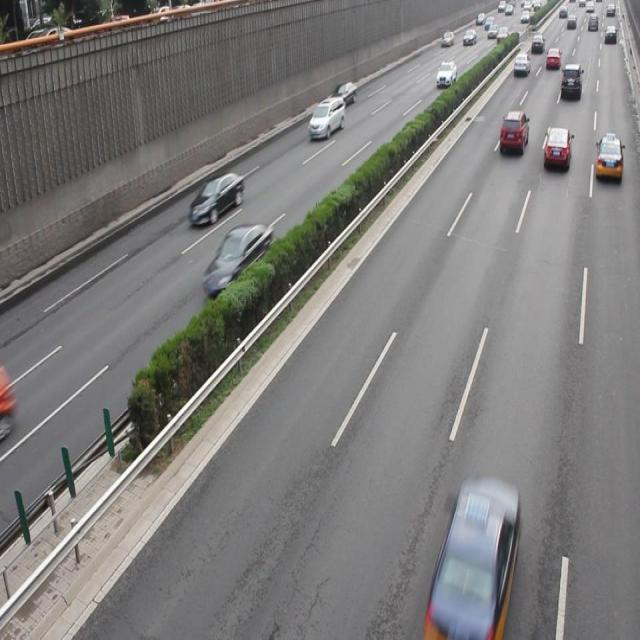car: (430, 478, 520, 631), (202, 220, 272, 294), (188, 170, 244, 227), (498, 110, 528, 156), (594, 134, 622, 182), (542, 126, 570, 171)
truck: (307, 94, 344, 143)
